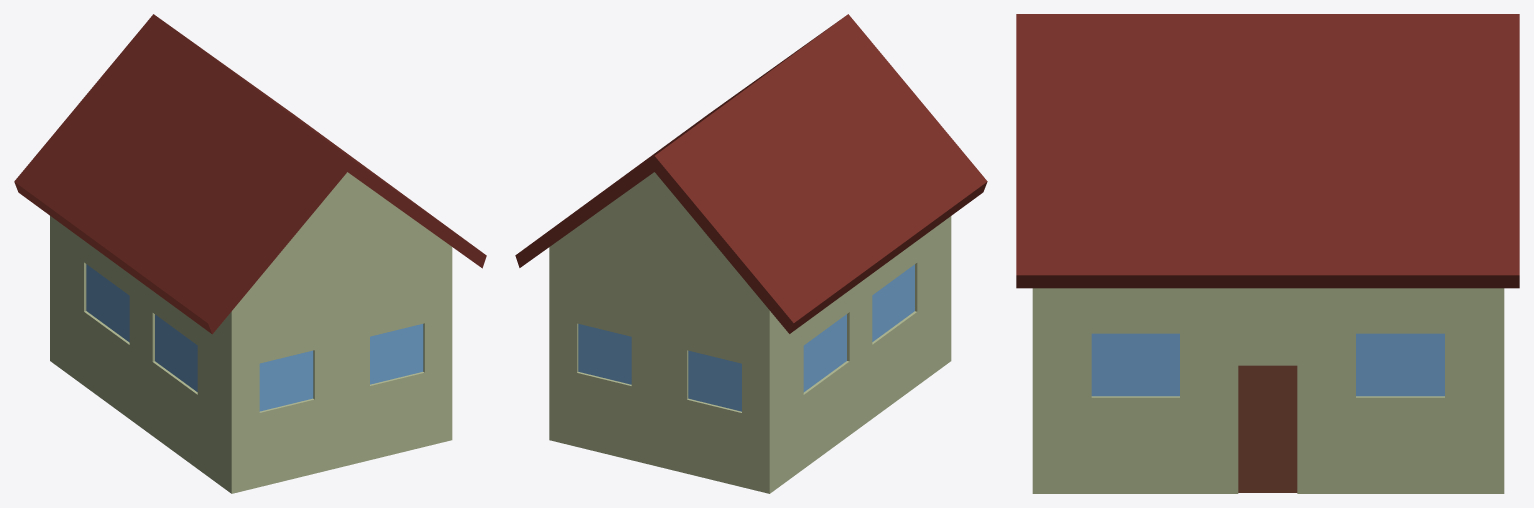
The model's file is house1.fbx.
The picture shows the model from 3 angles, left to right: view 1: azimuth 30°, elevation 25°; view 2: azimuth 150°, elevation 25°; view 3: azimuth 270°, elevation 25°; orthographic projection. The views are drawn at different scales.
Parts seen in each view (by area): view 1: Cube; view 2: Cube; view 3: Cube.
Part boxes in pixels (x1=…): Cube: x1=14, y1=14, x2=486, y2=493; Cube: x1=515, y1=14, x2=987, y2=493; Cube: x1=1016, y1=14, x2=1519, y2=493.
Size of the model in its own units: 885 by 958 by 1067.
